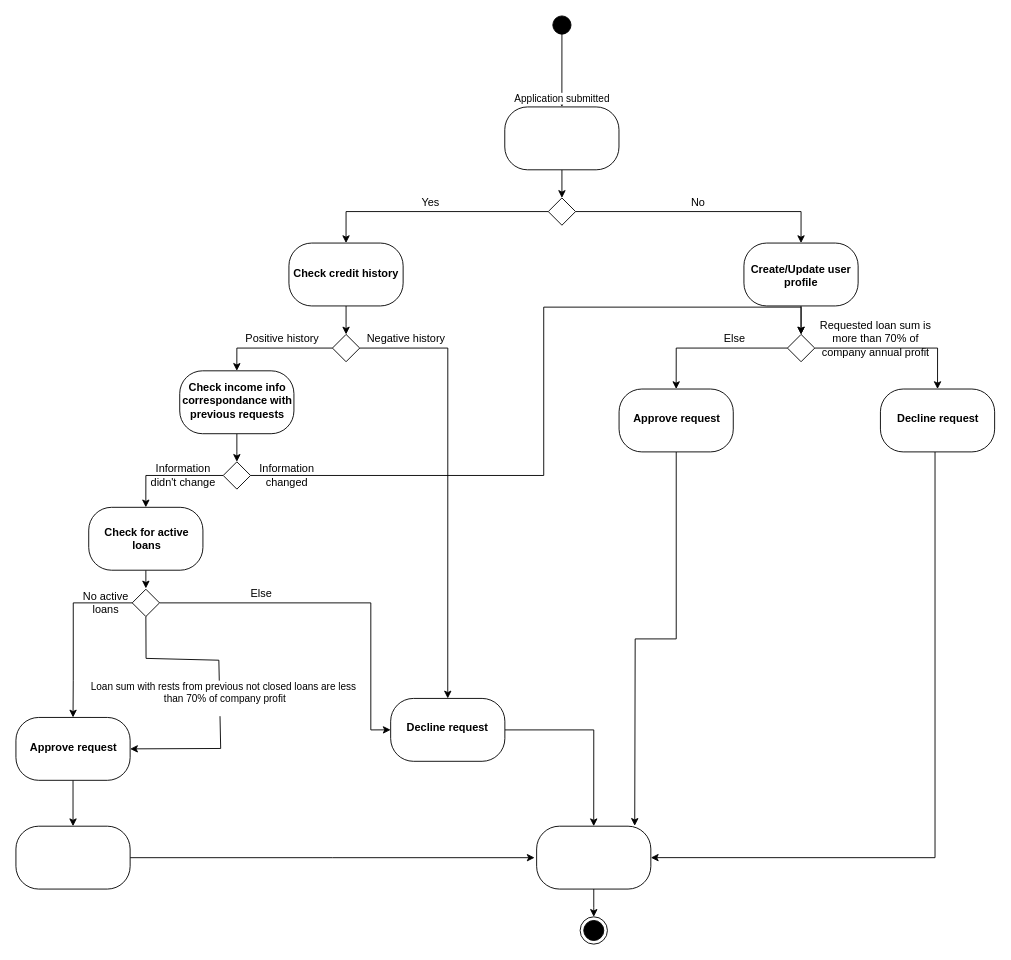
This 1011x960 diagram has some shape labels left out. Here are the shapes that lost their labels. From the top down, the box of each, then its label:
(504, 106, 619, 170): Identify if user is in database
(15, 825, 130, 889): Update user profile
(536, 825, 651, 889): Place decision in personal account
